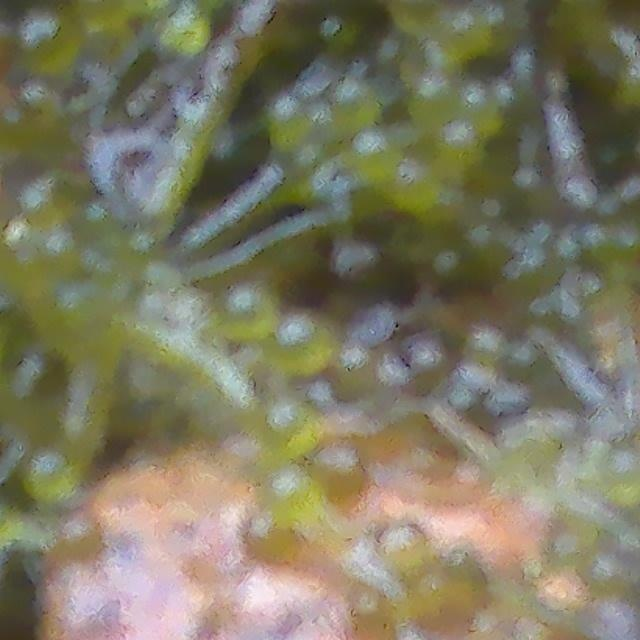SeaGrape: (17, 9, 85, 74), (263, 84, 314, 155), (274, 314, 334, 374), (259, 463, 317, 521), (226, 287, 280, 340), (263, 399, 319, 449), (432, 10, 483, 64), (409, 75, 459, 128), (325, 83, 380, 128), (165, 0, 207, 56), (391, 165, 441, 212), (23, 453, 71, 500), (354, 135, 401, 174), (465, 89, 500, 134), (440, 127, 483, 161)
